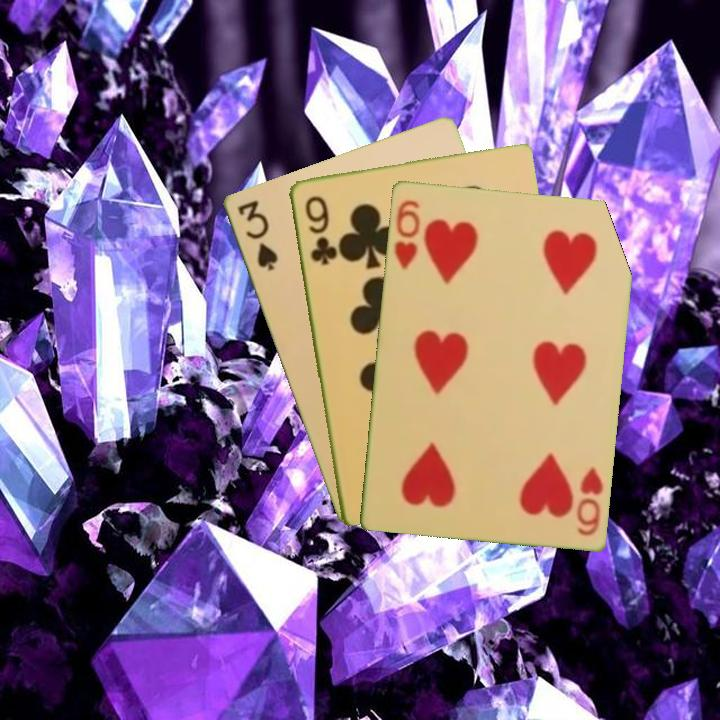3s: (233, 196, 281, 274)
6h: (572, 463, 606, 538), (390, 196, 423, 272)
9c: (301, 192, 337, 268)
